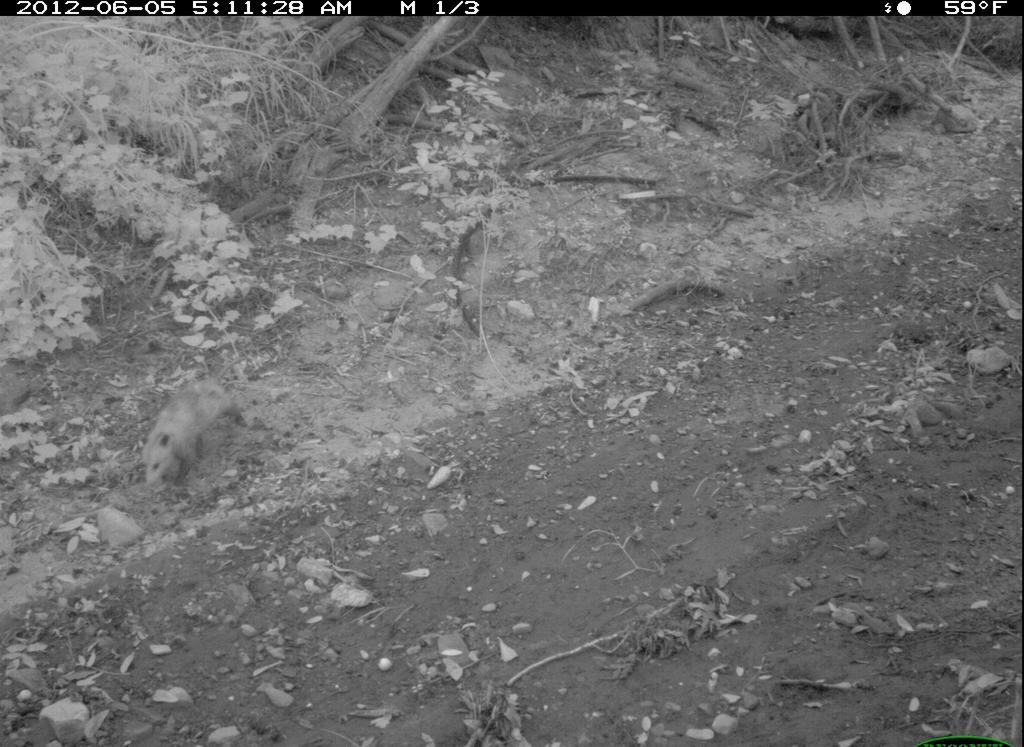opossum: (134, 377, 250, 499)
